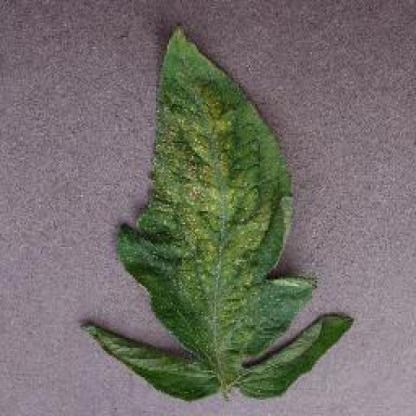Tomato_Spider_Mites: (84, 27, 351, 397)
